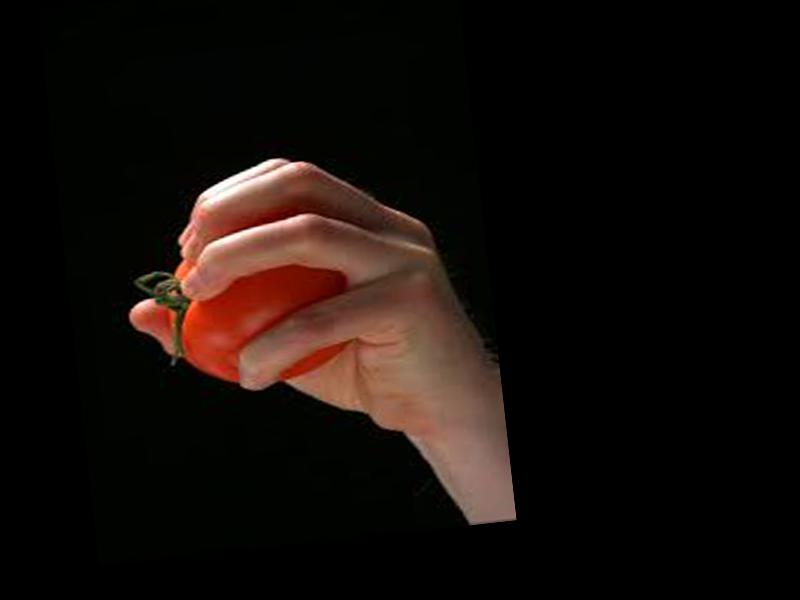Tomato: (171, 239, 362, 391)
